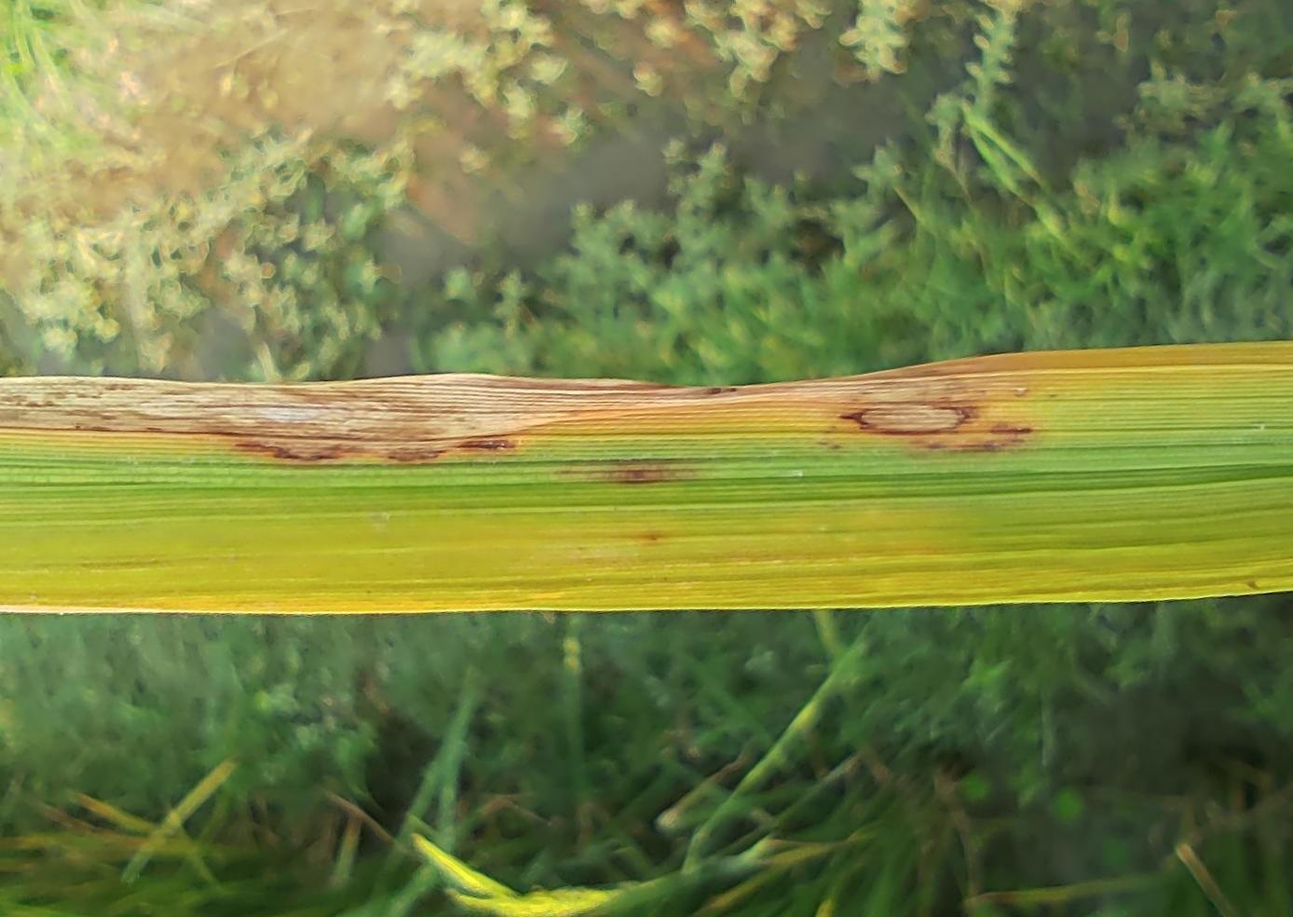LEAF: (0, 341, 1292, 613)
LEAF BLAST: (838, 401, 982, 438), (458, 439, 517, 450)
